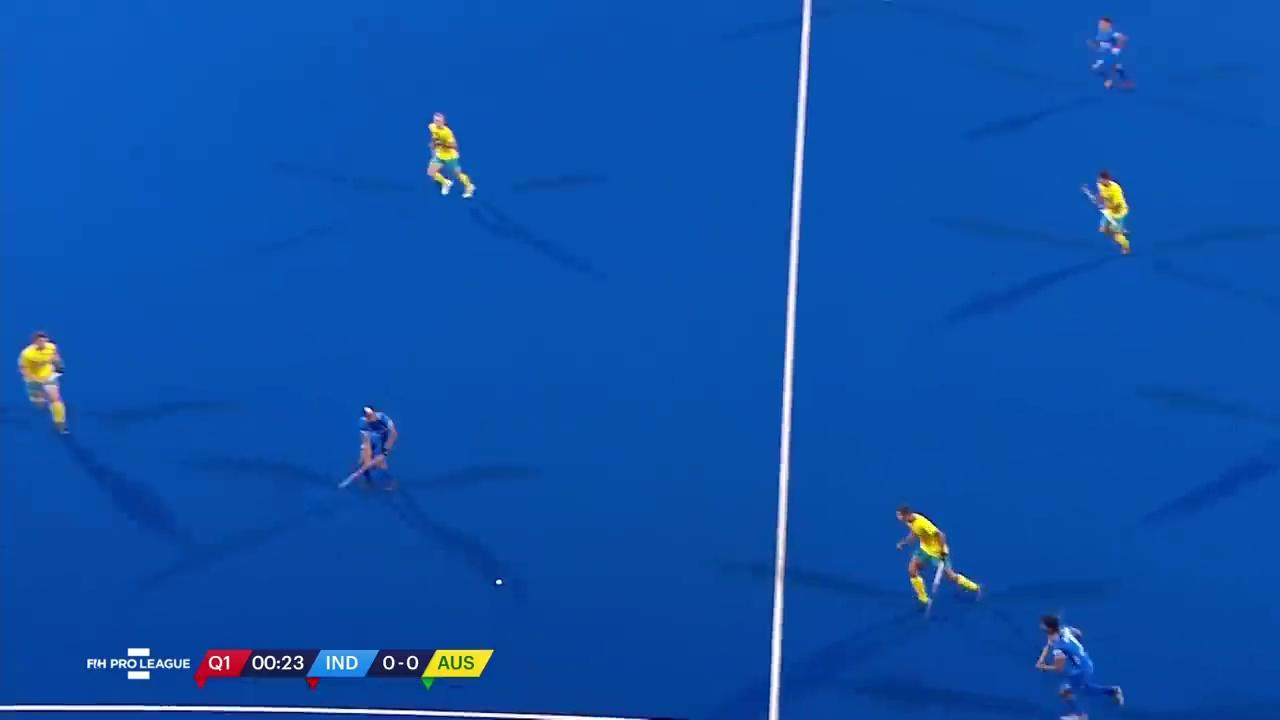ball: (490, 574, 506, 592)
